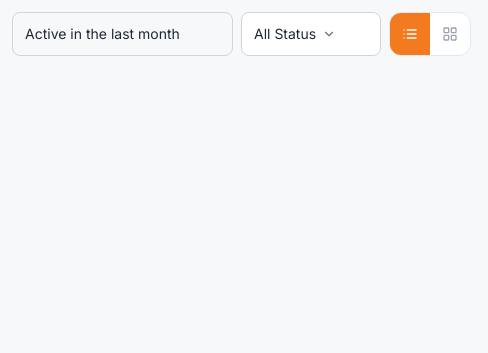
Scenario: RewardsToolbar › opens custom date popover when Custom range selected
Select "Custom range..." in the dropdown showing "Active in the last month" at (122,34), box [12,12,233,56]
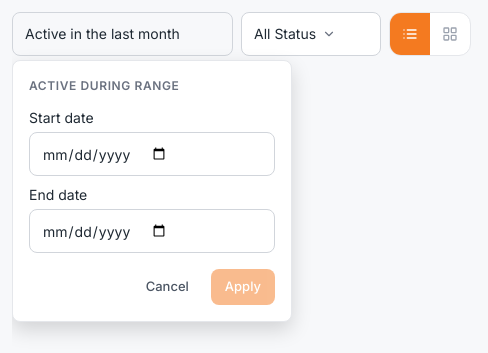
Expected: the text "Active During Range" is shown, [29,78,180,93]
Expected: the text "Start date" is shown, [29,107,275,176]
Expected: the text "End date" is shown, [29,184,275,253]
